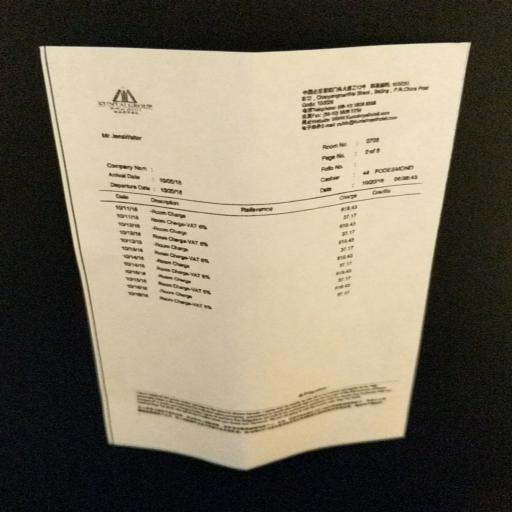paper: (25, 7, 512, 512)
